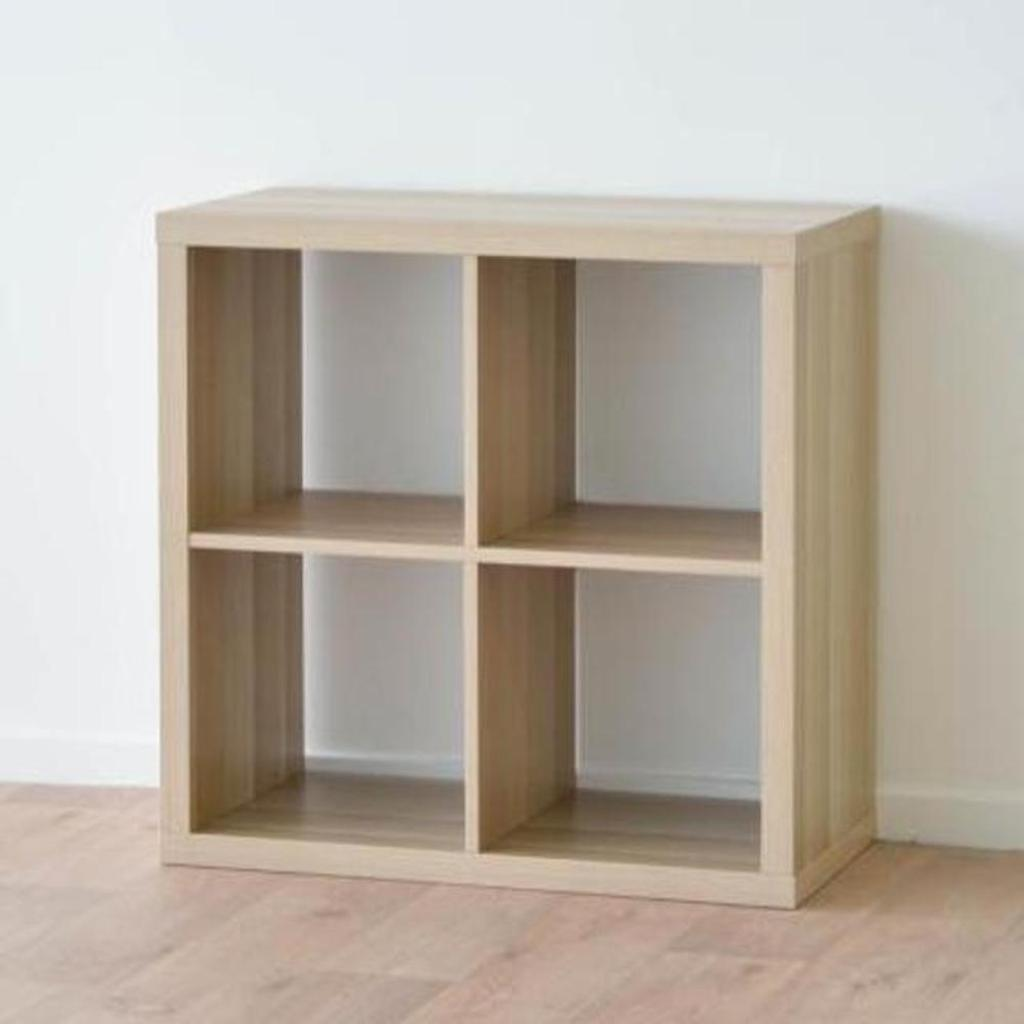lamp: (151, 184, 885, 911)
